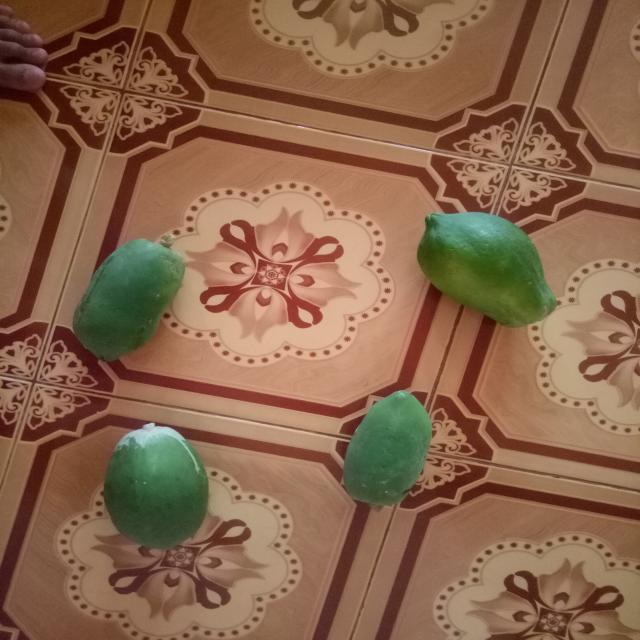Pepaya unrippen: (404, 206, 569, 330), (61, 238, 202, 366), (85, 434, 219, 554), (332, 392, 439, 511)
